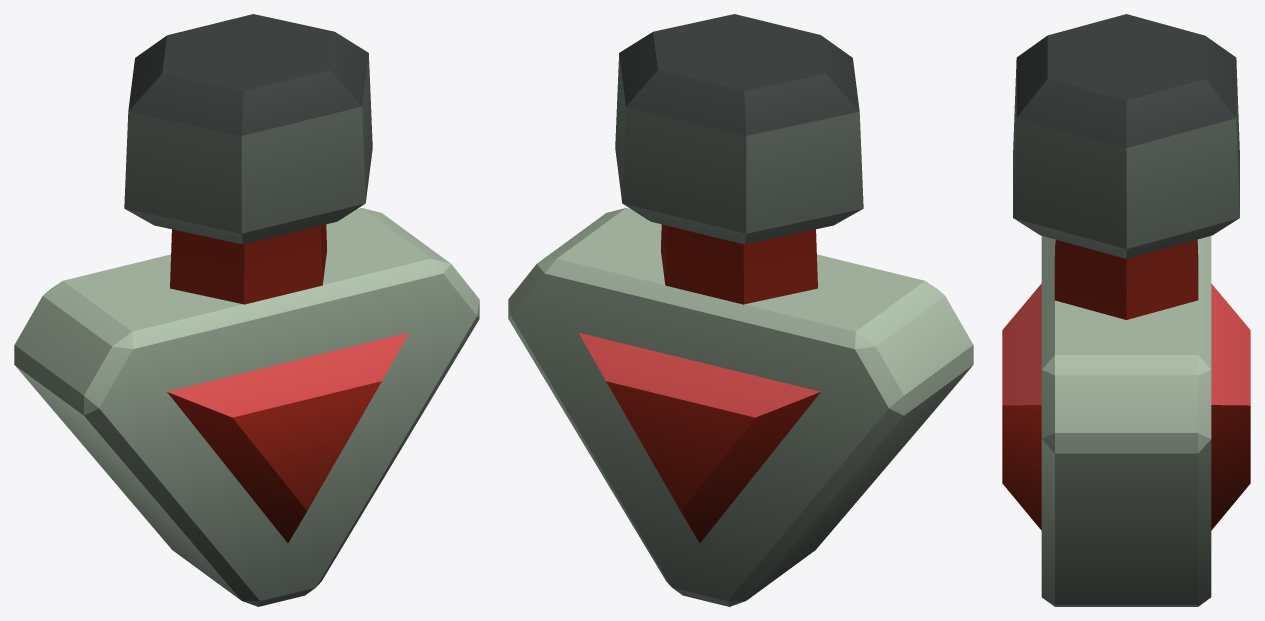
Rendered from decor_019.fbx.
The picture shows the model from 3 angles, left to right: view 1: azimuth 30°, elevation 25°; view 2: azimuth 150°, elevation 25°; view 3: azimuth 270°, elevation 25°; orthographic projection. The views are drawn at different scales.
Parts seen in each view (by area): view 1: decor.019; view 2: decor.019; view 3: decor.019.
Part boxes in pixels (x1,y1,x2,y2): decor.019: [14, 14, 479, 606]; decor.019: [508, 14, 973, 606]; decor.019: [1002, 14, 1250, 606].
Bounding box in the file's own units: 20.22 × 25.55 × 10.68.
